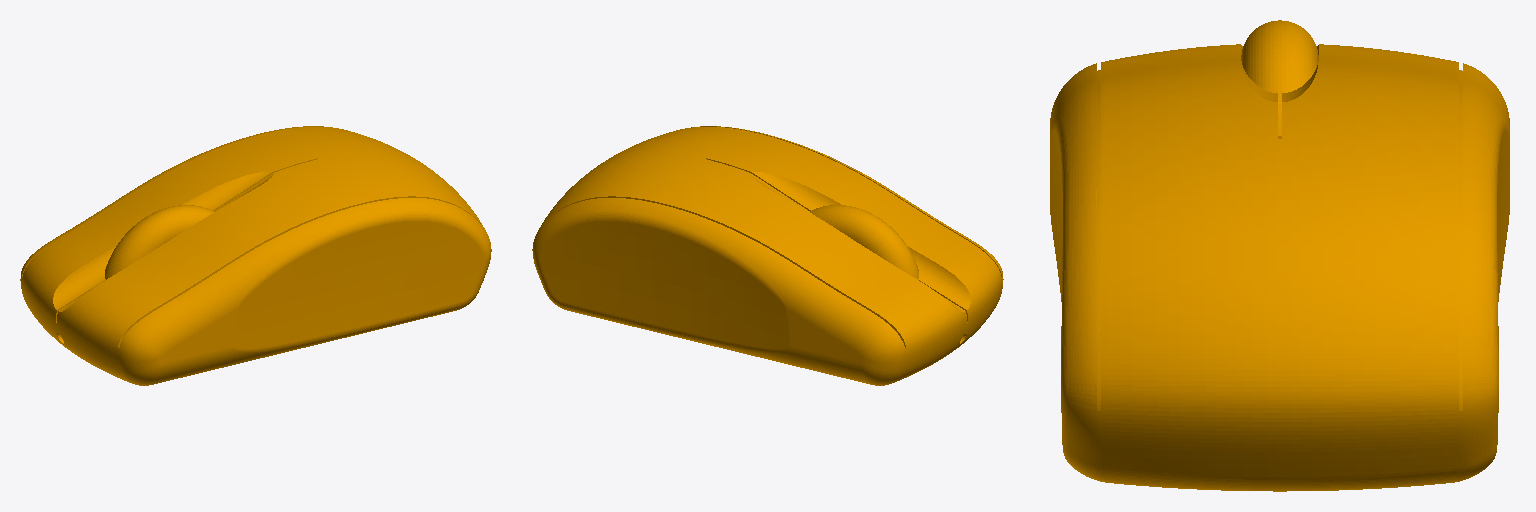
robot.urdf — object:
<?xml version="1.0"?>
<robot name="object">
  <link name="object">
    <visual>
      <origin xyz="0.0 0.0 0.0"/>
      <geometry>
        <mesh filename="mouse.stl" scale="1.00 1.00 1.00"/>
      </geometry>
    </visual>
    <collision>
      <origin xyz="0.0 0.0 0.0"/>
      <geometry>
        <mesh filename="mouse.stl" scale="1.00 1.00 1.00"/>
      </geometry>
    </collision>
  </link>
</robot>        

--- Facts derived from the render (not from the file) ---
The picture shows the robot from 3 angles, left to right: view 1: azimuth 30°, elevation 25°; view 2: azimuth 150°, elevation 25°; view 3: azimuth 270°, elevation 25°; orthographic projection.
Model object with 1 links and 0 joints (none), rooted at object, posed all joints at 0.
Links seen in each view (by area): view 1: object; view 2: object; view 3: object.
Link boxes in pixels (x1=…): object: x1=20, y1=126, x2=491, y2=385; object: x1=532, y1=126, x2=1003, y2=385; object: x1=1050, y1=20, x2=1509, y2=491.
Bounding box of the posed robot: 0.1169 × 0.0625 × 0.039 m (x, y, z).
1 mesh visuals loaded from 1 distinct referenced files (1 binary STL).
